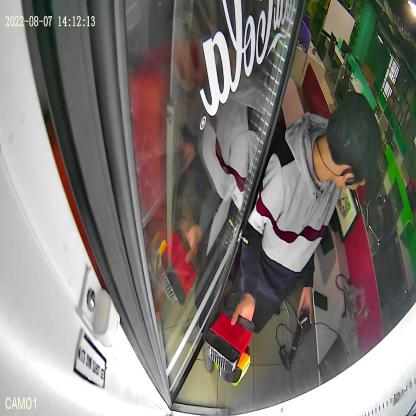red: (204, 308, 254, 374)
yellow: (214, 344, 251, 387)
